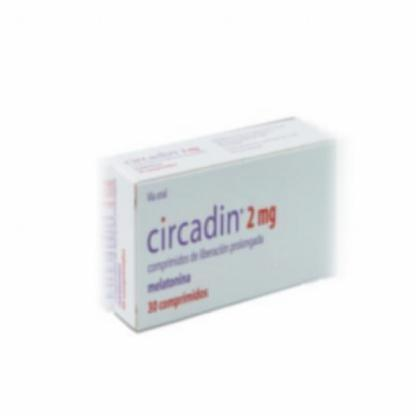-: (102, 122, 337, 329)
